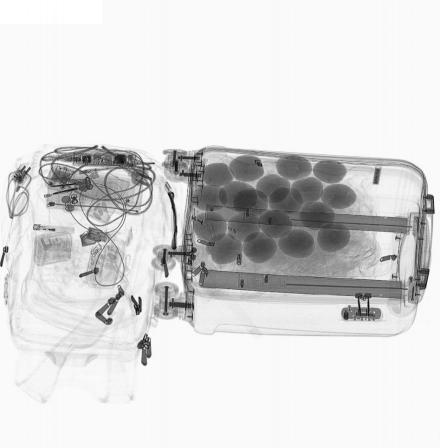Lighter: (31, 223, 76, 236)
